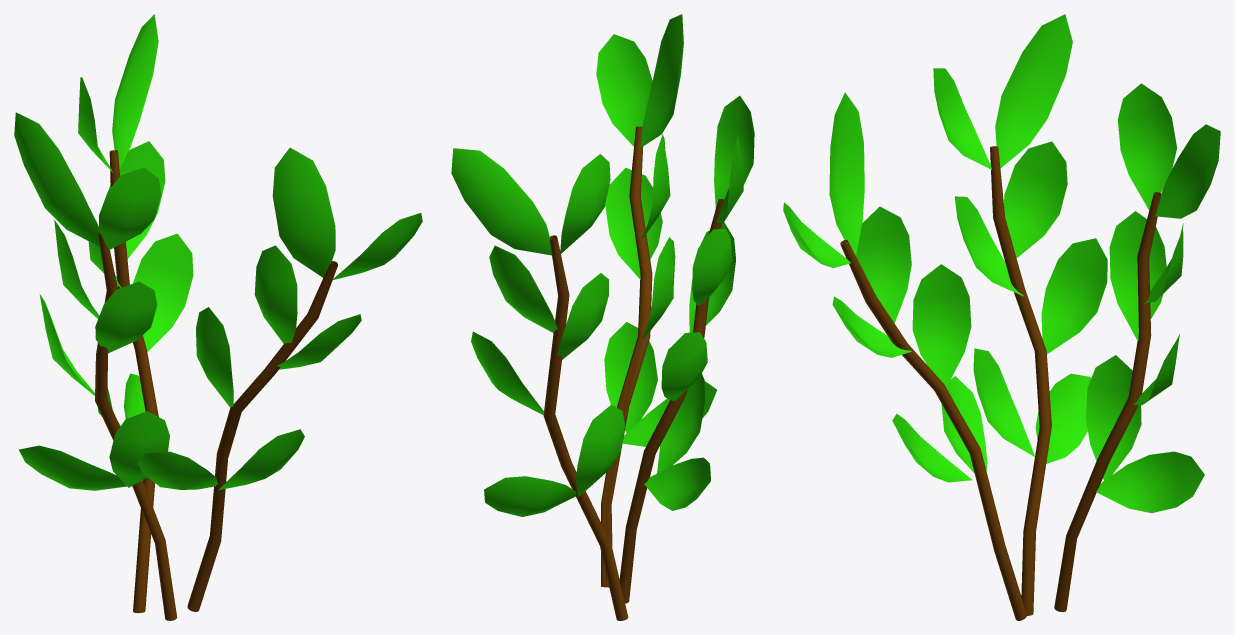
The model's file is plants.fbx.
3 views of the same model, side by side, from view 1: azimuth 30°, elevation 25°; view 2: azimuth 150°, elevation 25°; view 3: azimuth 270°, elevation 25° (orthographic). The views are drawn at different scales.
Parts seen in each view (by area): view 1: Flower; view 2: Flower; view 3: Flower.
Part boxes in pixels (x1,y1,x2,y2): Flower: [14, 14, 422, 620]; Flower: [451, 14, 754, 620]; Flower: [783, 14, 1220, 620].
Size of the model in its own units: 228 by 422 by 310.
